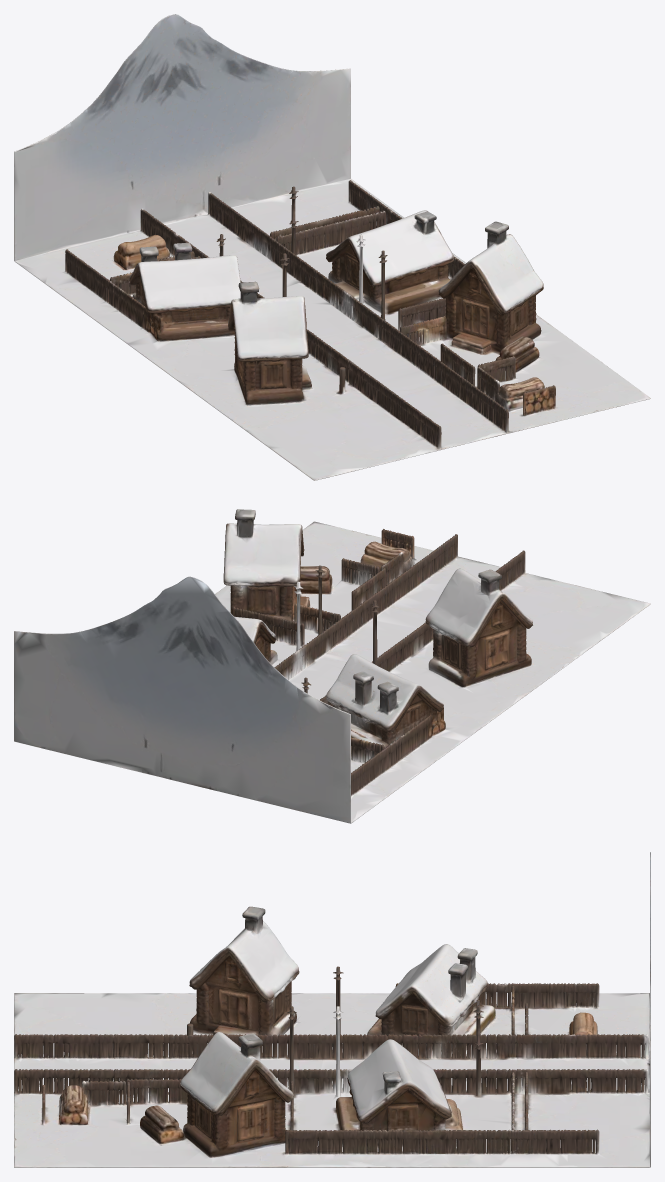
The model's file is snowvillage-visual-m.glb.
3 views of the same model, one above another, from view 1: azimuth 30°, elevation 25°; view 2: azimuth 150°, elevation 25°; view 3: azimuth 270°, elevation 25° (orthographic). The views are drawn at different scales.
Visible parts, largest first — view 1: node_0; view 2: node_0; view 3: node_0.
Boxes of the visible parts, box(x1,y1,x2,y2) form: node_0: box(14, 14, 650, 480); node_0: box(14, 509, 650, 823); node_0: box(14, 852, 650, 1167).
Size of the model in its own units: 0.6228 by 0.3681 by 0.9617.
Materials: 1 (1 with a texture image).
